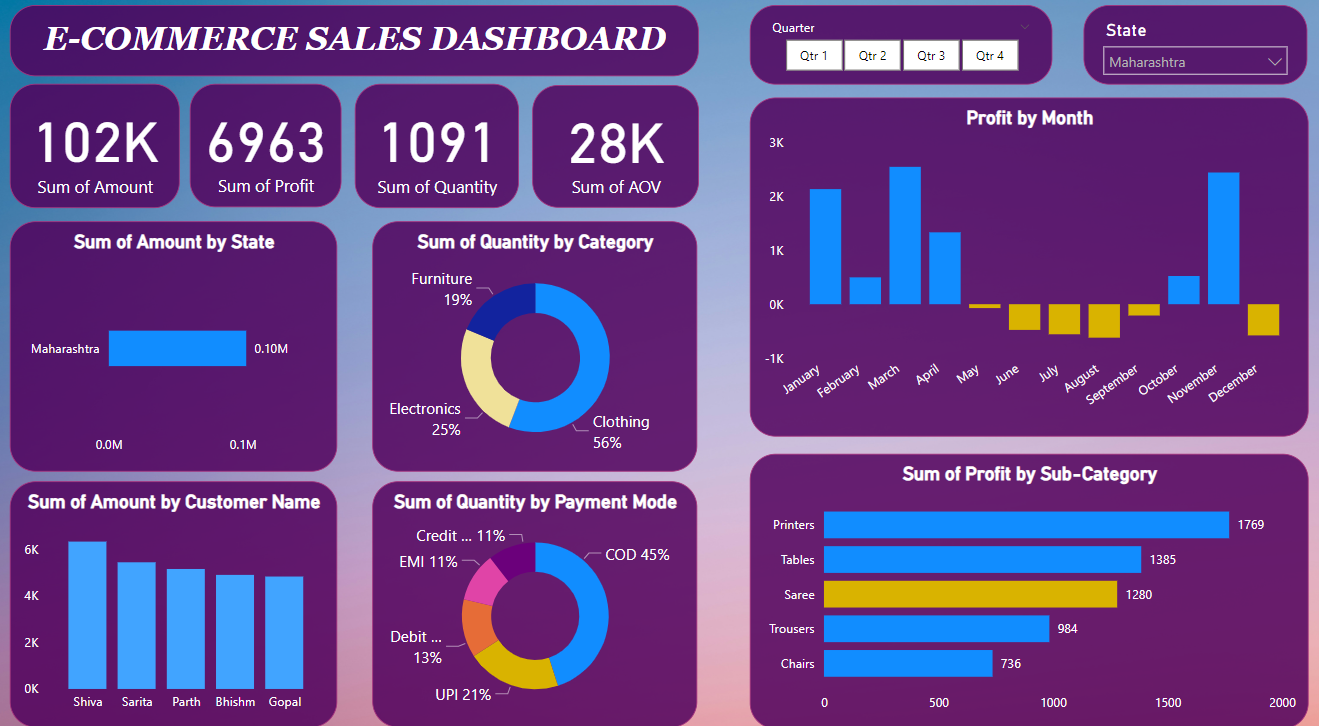

This screenshot's page, from the dashboard's own definition file:
{"tool":"powerbi","page":{"name":"Page 1","canvas":[1280,720],"ordinal":0},"visuals":[{"type":"textbox","box":[13.3,14.5,664.5,68.7],"z":0},{"type":"columnChart","title":"Profit by Month","fields":{"Category":["Orders.Order Date.Variation.Date Hierarchy.Month"],"Y":["Sum(Details.Profit)"]},"box":[727.2,103.7,539.1,326.8],"z":1000},{"type":"barChart","fields":{"Category":["Details.Sub-Category"],"Y":["Sum(Details.Profit)"]},"box":[726,445,539.1,266.5],"z":2000},{"type":"donutChart","fields":{"Category":["Details.Category"],"Y":["Sum(Details.Quantity)"]},"box":[363,223.1,313.6,241.2],"z":3000},{"type":"donutChart","title":"Sum of Quantity by Payment Mode","fields":{"Y":["Sum(Details.Quantity)"],"Category":["Details.PaymentMode"]},"box":[362.5,473.9,313.6,238.6],"z":4000},{"type":"card","fields":{"Values":["Sum(Details.Amount)"]},"box":[13,91,164,120],"z":5000},{"type":"card","fields":{"Values":["Sum(Details.Quantity)"]},"box":[346,90,158,120],"z":6000},{"type":"card","fields":{"Values":["Sum(Details.Profit)"]},"box":[187,91,146,119],"z":7000},{"type":"card","fields":{"Values":["Sum(Details.AOV)"]},"box":[517,92,161,118],"z":8000},{"type":"barChart","fields":{"Category":["Orders.State"],"Y":["Sum(Details.Amount)"]},"box":[13.3,223.1,316,241.2],"z":9000},{"type":"columnChart","title":"Sum of Amount by Customer Name","fields":{"Category":["Orders.CustomerName"],"Y":["Sum(Details.Amount)"]},"box":[13.6,473.9,315.9,238.6],"z":10000},{"type":"slicer","fields":{"Values":["Orders.Order Date.Variation.Date Hierarchy.Quarter"]},"box":[727.2,14.5,291.9,77.2],"z":11000},{"type":"slicer","fields":{"Values":["Orders.State"]},"box":[1049.2,14.5,215.9,77.2],"z":12000}]}

Visuals, with their boxes in screenshot pixels (x1, y1, x2, y2), scaled from the page's 1280x720 canvas onto the 1319x726 screenshot:
textbox: l=14, t=15, r=698, b=84
"Profit by Month" columnChart: l=749, t=105, r=1305, b=434
barChart - Details.Sub-Category x Sum(Details.Profit): l=748, t=449, r=1304, b=717
donutChart - Details.Category x Sum(Details.Quantity): l=374, t=225, r=697, b=468
"Sum of Quantity by Payment Mode" donutChart: l=374, t=478, r=697, b=718
card - Sum(Details.Amount): l=13, t=92, r=182, b=213
card - Sum(Details.Quantity): l=357, t=91, r=519, b=212
card - Sum(Details.Profit): l=193, t=92, r=343, b=212
card - Sum(Details.AOV): l=533, t=93, r=699, b=212
barChart - Orders.State x Sum(Details.Amount): l=14, t=225, r=339, b=468
"Sum of Amount by Customer Name" columnChart: l=14, t=478, r=340, b=718
slicer - Orders.Order Date.Variation.Date Hierarchy.Quarter: l=749, t=15, r=1050, b=92
slicer - Orders.State: l=1081, t=15, r=1304, b=92
